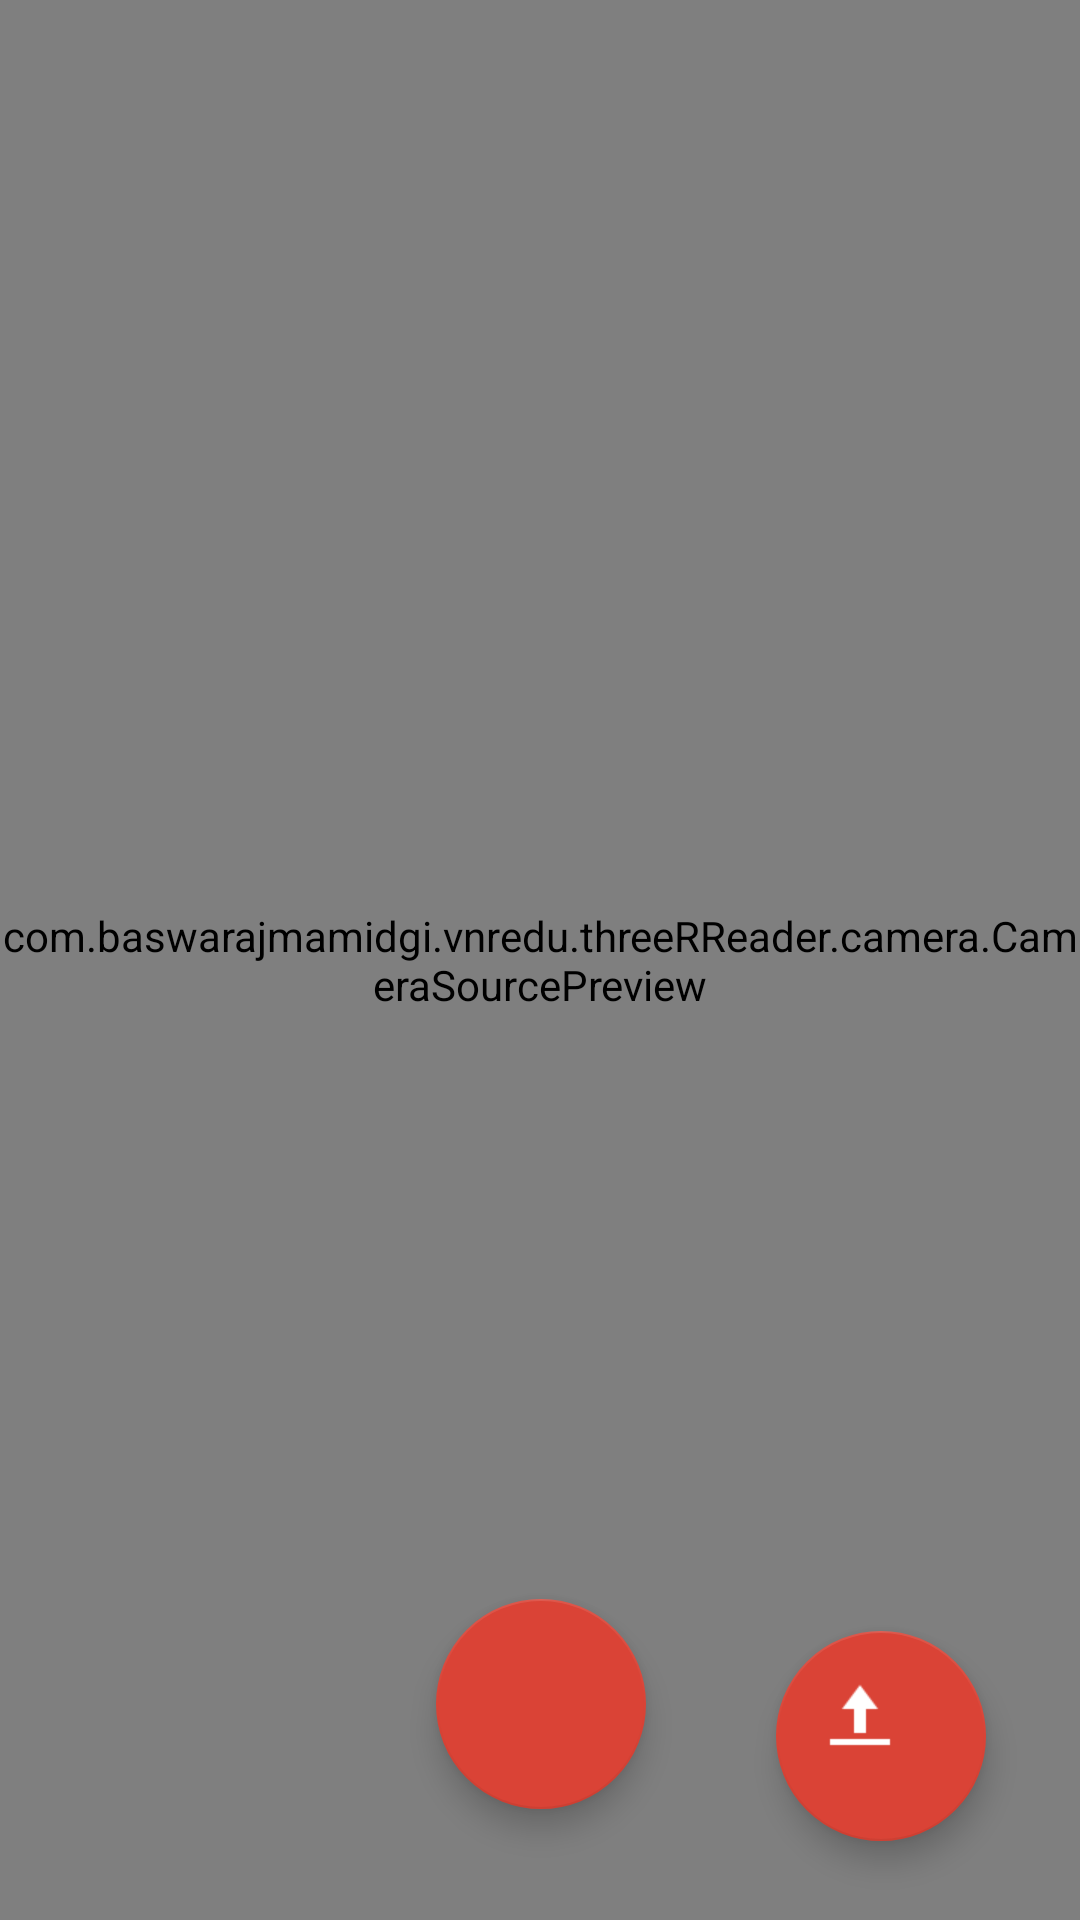

Point at icon controls on the screen. Image size 1080px x 1920px, points as (x,y).
upload: (881,1736)
